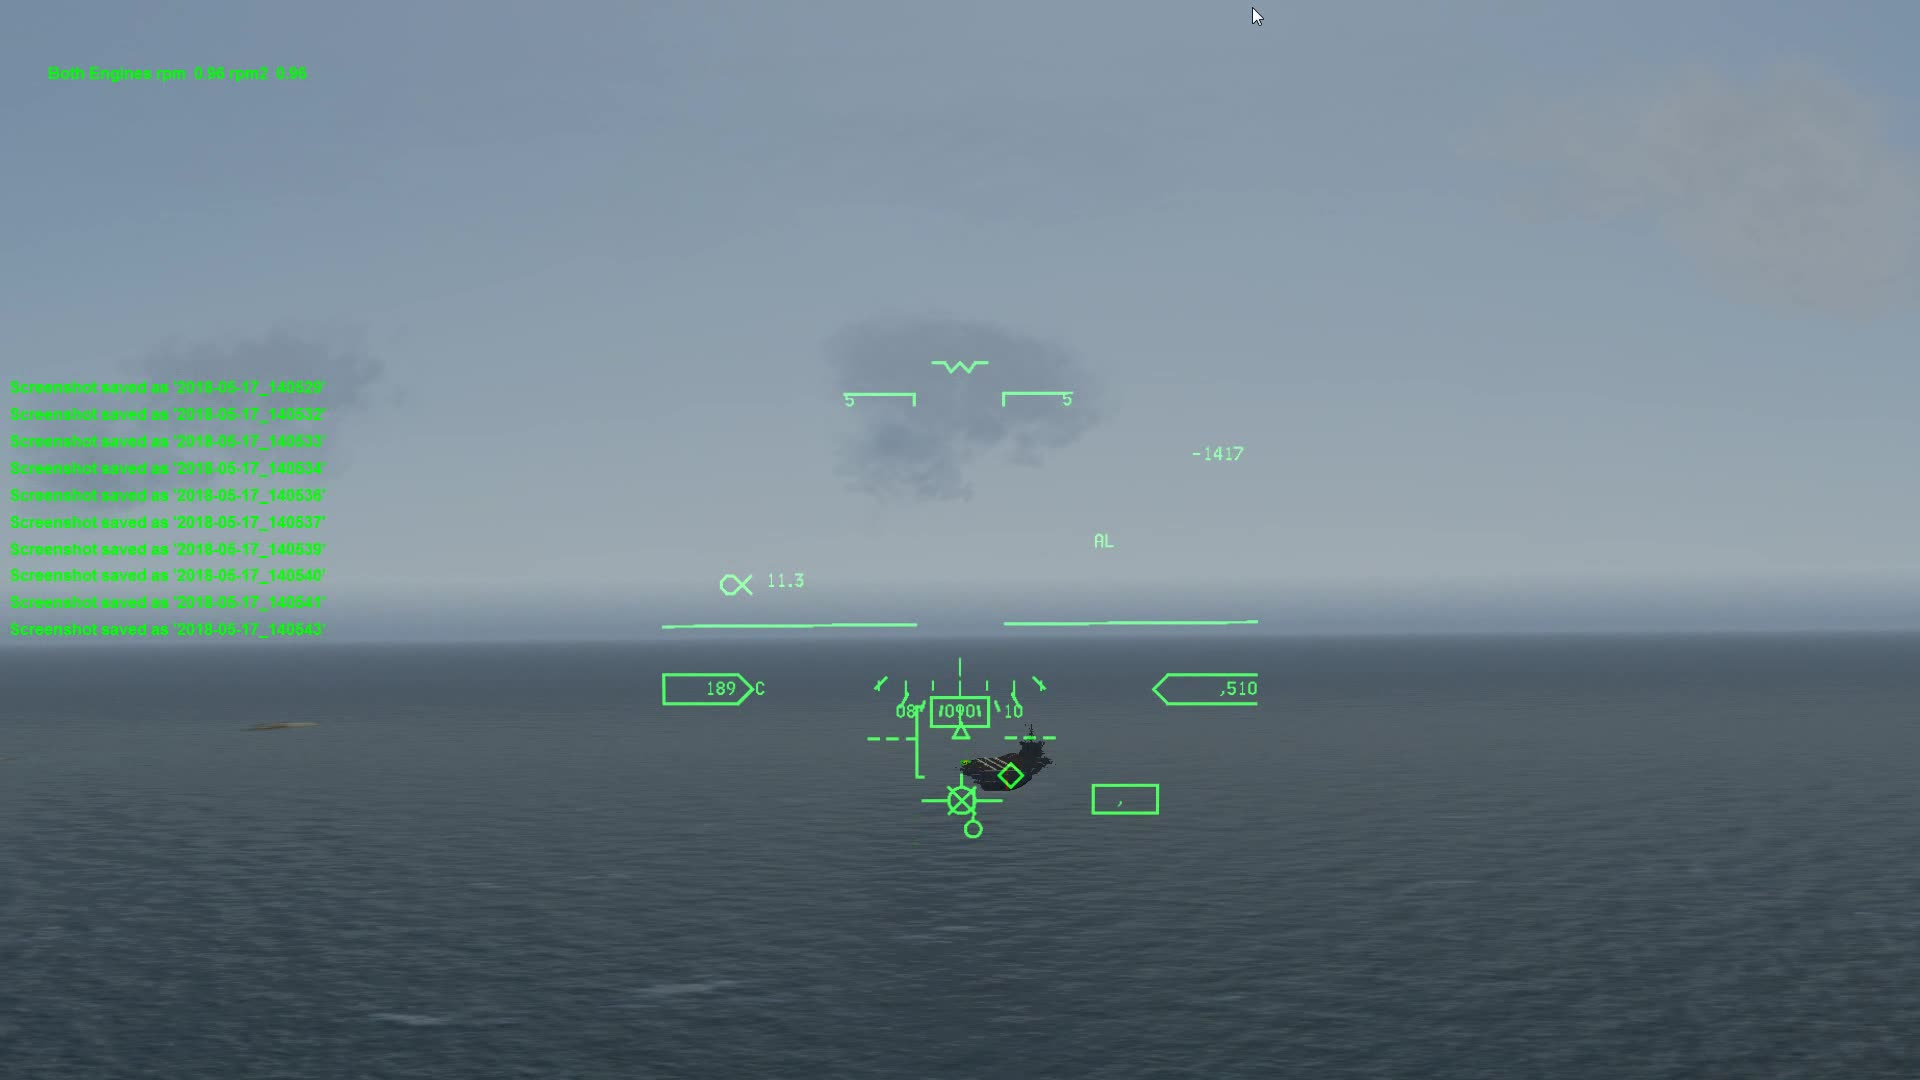speed vector: (918, 774, 1002, 816)
